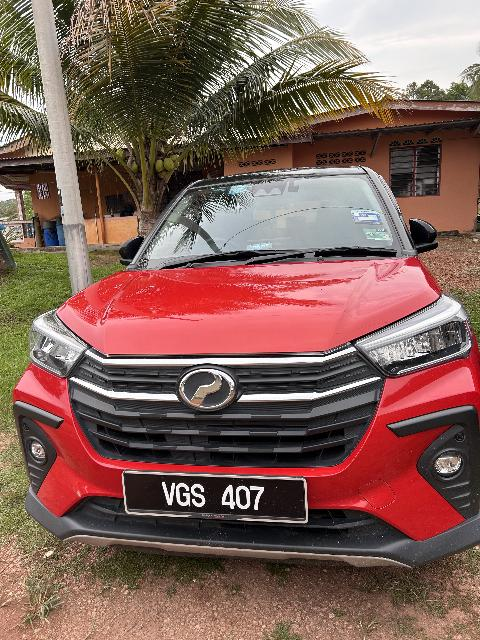License_Plate: (122, 470, 310, 522)
car: (5, 163, 480, 574)
